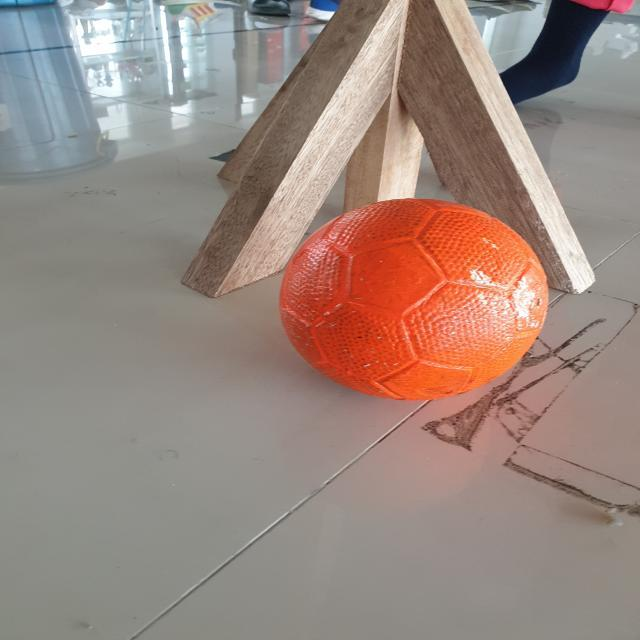bola: (286, 195, 548, 414)
